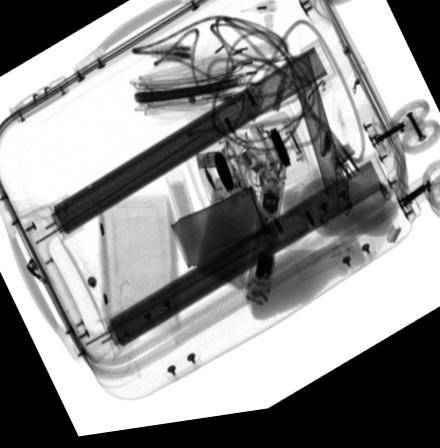Baton: (246, 157, 287, 313)
